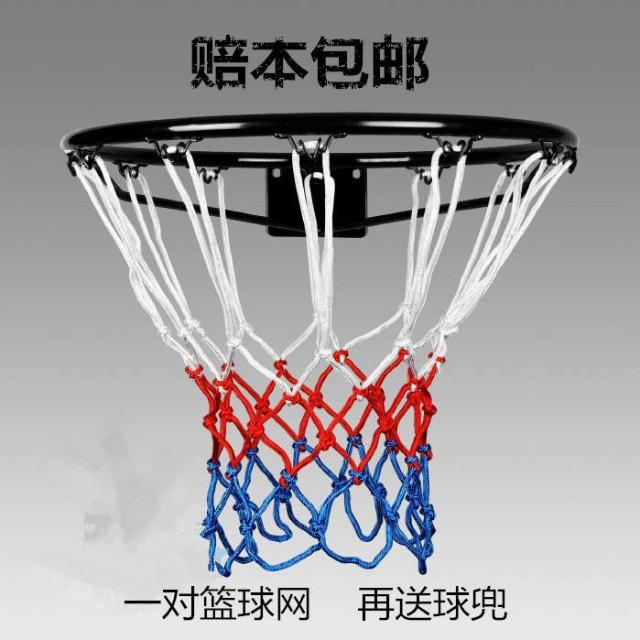rim: (63, 113, 581, 575)
